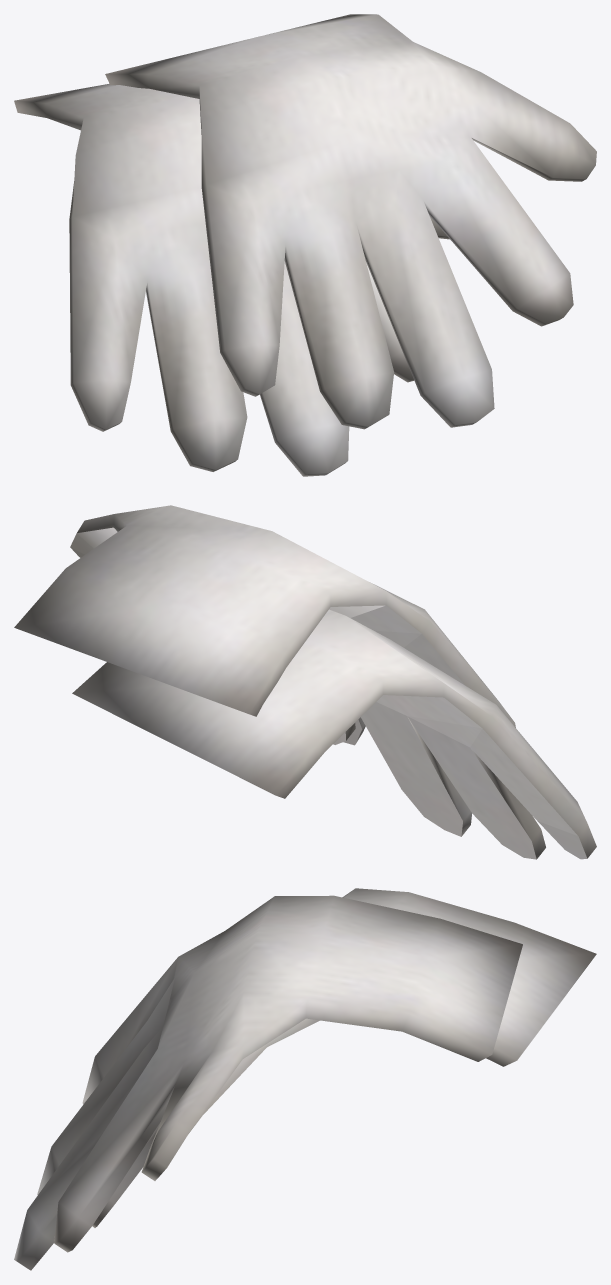
The model's file is CeSuo_01_baishoutao_01.FBX.
3 renders of one model, top to bottom at view 1: azimuth 30°, elevation 25°; view 2: azimuth 150°, elevation 25°; view 3: azimuth 270°, elevation 25°, orthographic. The views are drawn at different scales.
Parts seen in each view (by area): view 1: CeSuo_01_baishoutao_01; view 2: CeSuo_01_baishoutao_01; view 3: CeSuo_01_baishoutao_01.
Part boxes in pixels (x1=…): CeSuo_01_baishoutao_01: x1=14, y1=14, x2=596, y2=476; CeSuo_01_baishoutao_01: x1=14, y1=505, x2=596, y2=859; CeSuo_01_baishoutao_01: x1=14, y1=888, x2=596, y2=1270.
Size of the model in its own units: 121 by 73.34 by 110.
